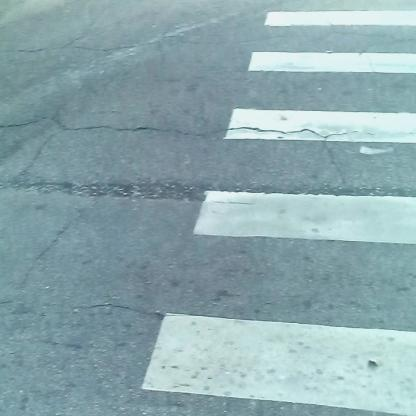crosswalk: (144, 10, 413, 394)
